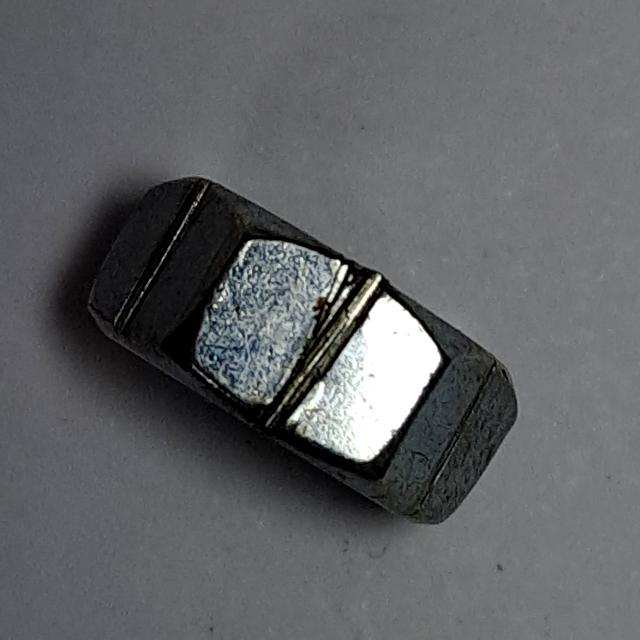Side_Scratches: (76, 162, 533, 540)
